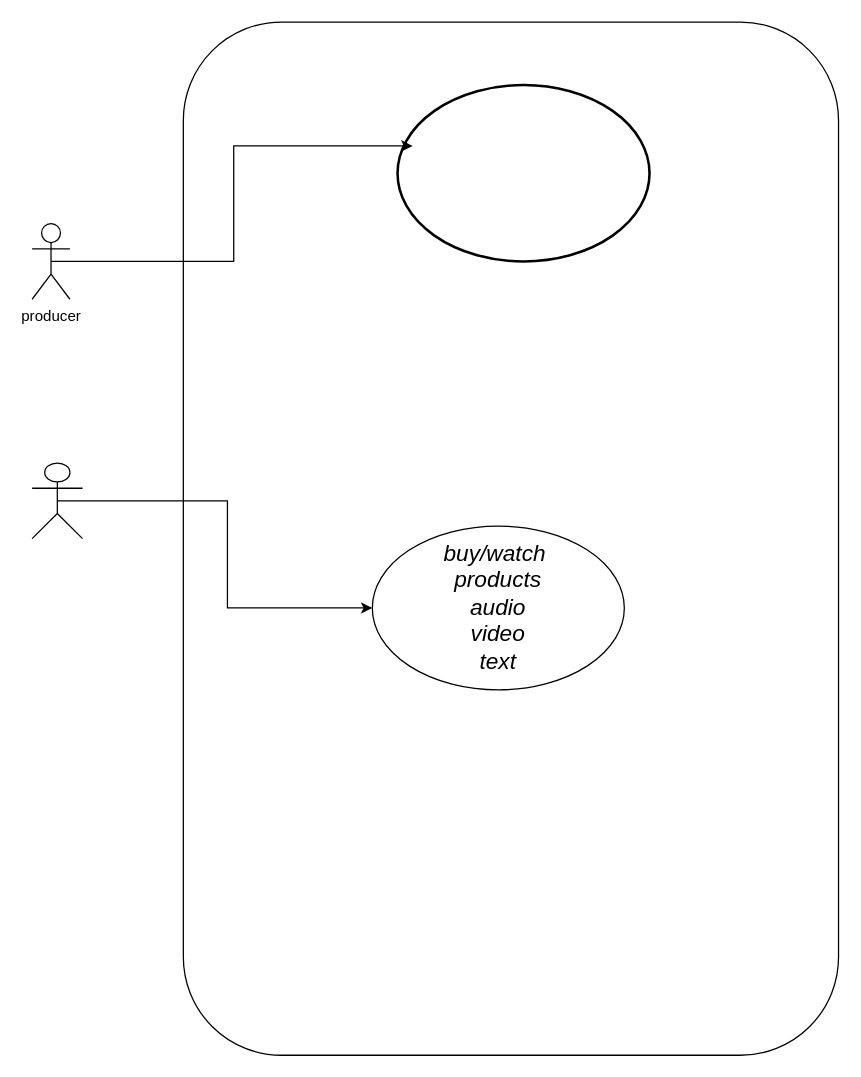
Image size: 861x1077. Some labels were removed from this diagram. Each missing label, with the centre of its shape:
"cosumer" goes at [57,500].
"upload/list products audio video text" goes at [523,172].
